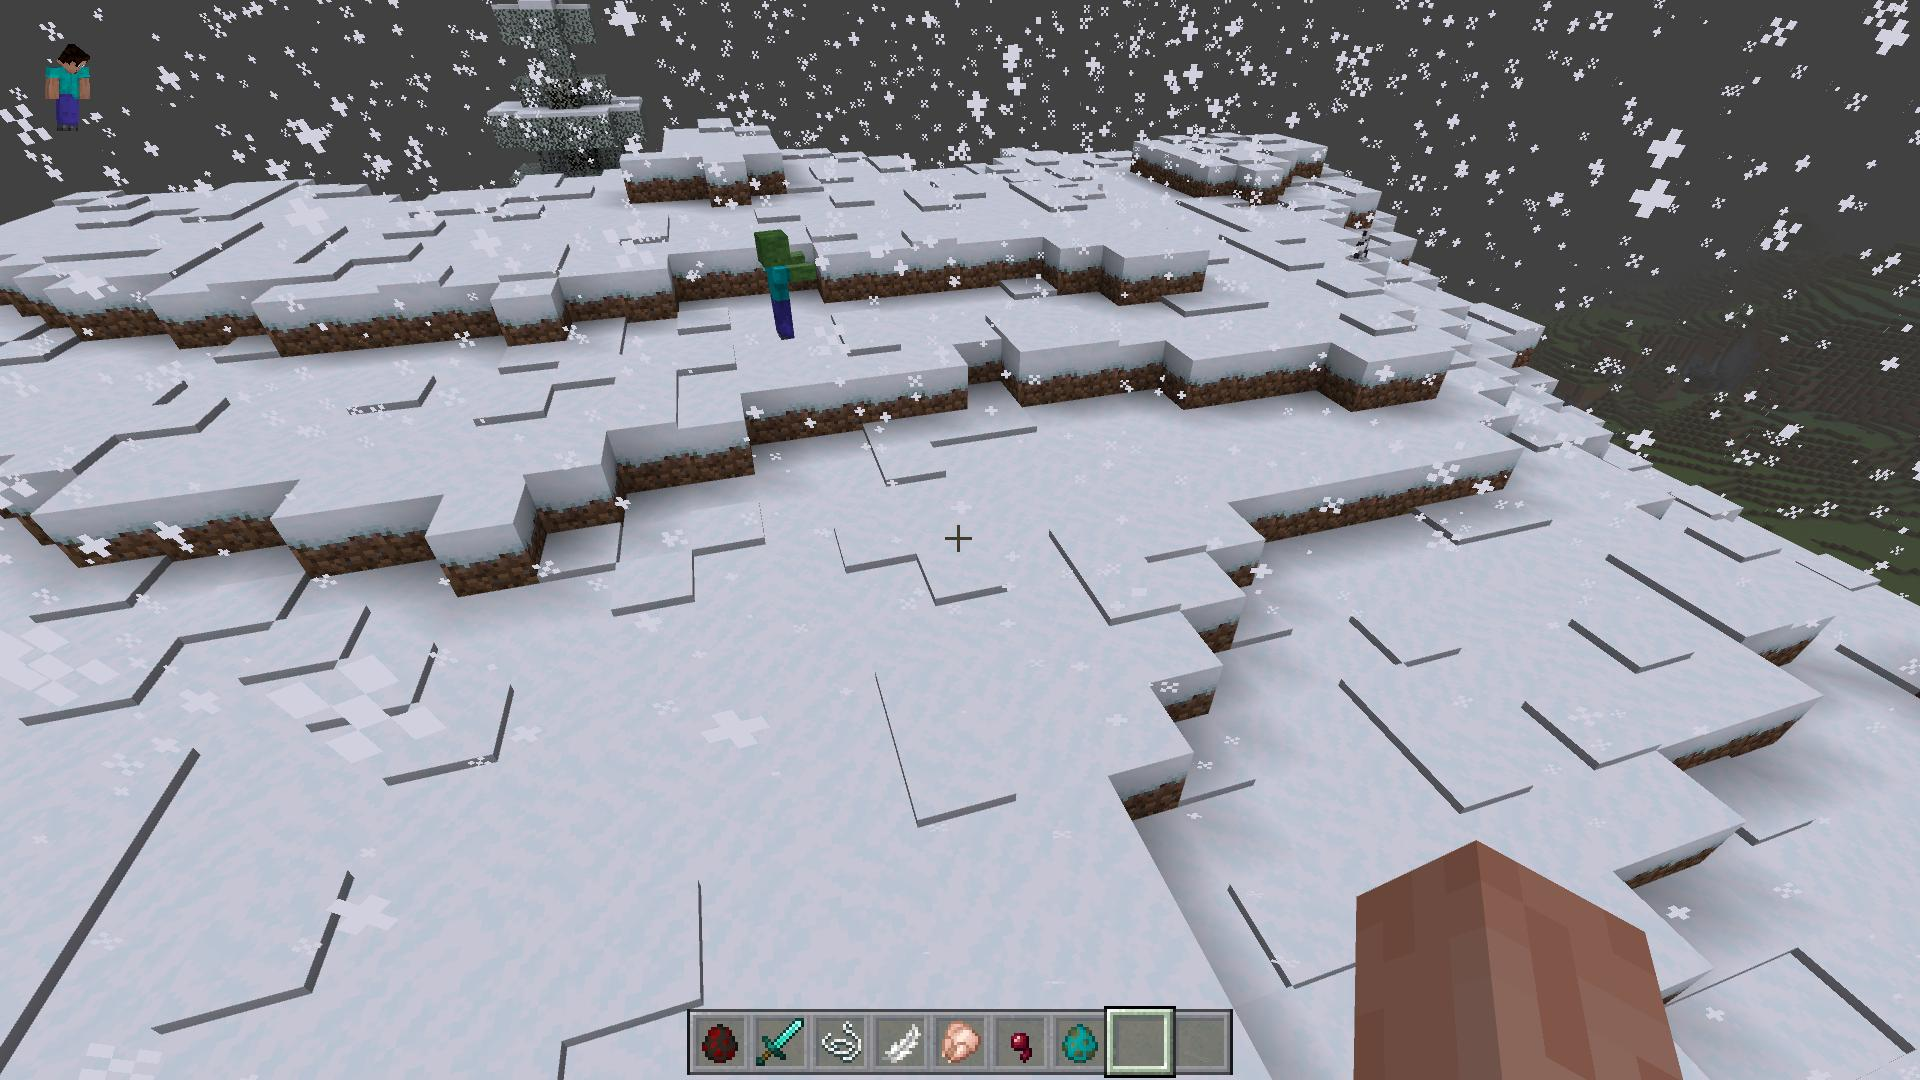zombie: (753, 227, 820, 345)
